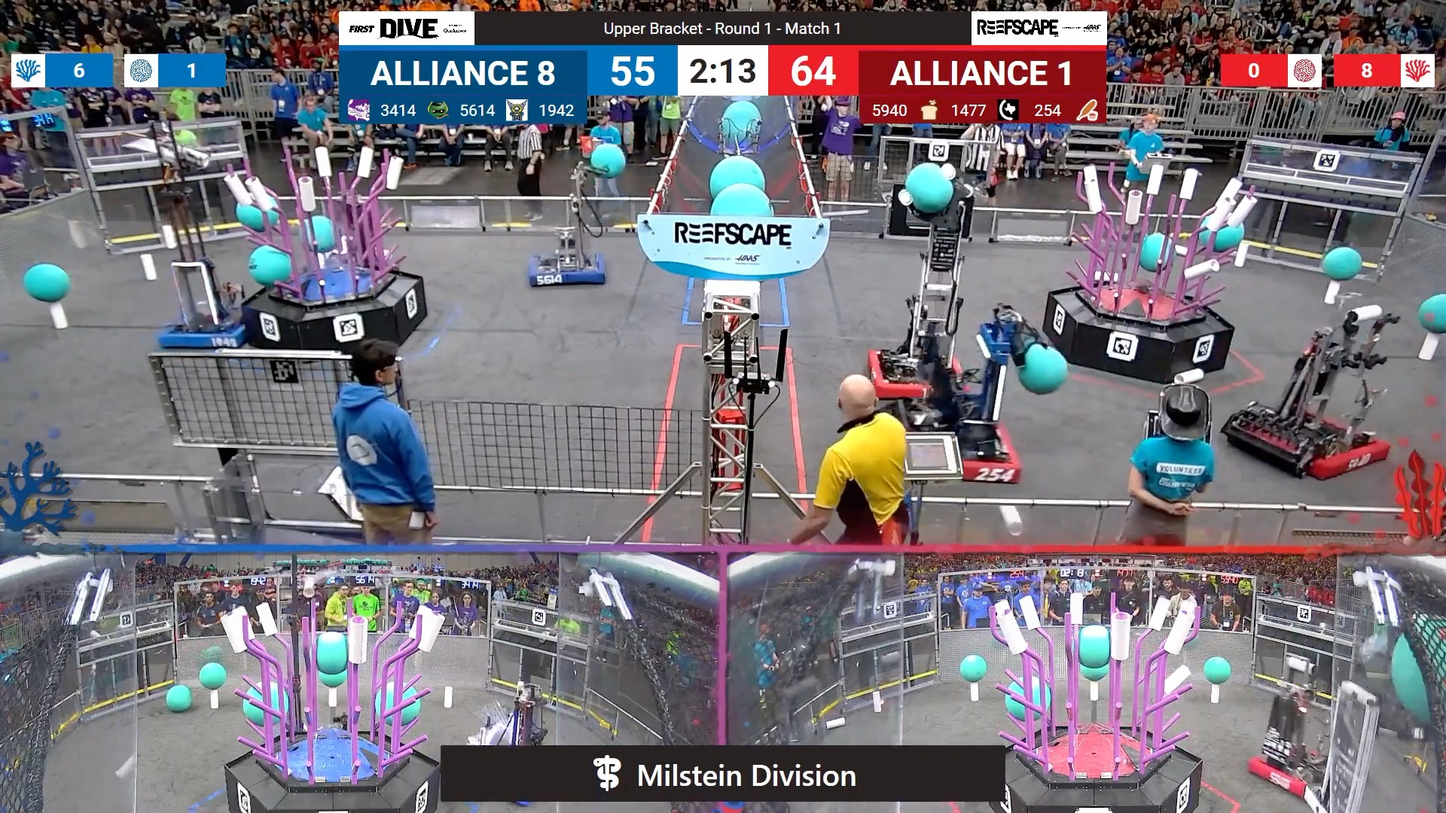bumpers: (883, 400, 1027, 490), (1230, 404, 1396, 482), (856, 345, 972, 400), (1238, 740, 1342, 798), (157, 300, 252, 352), (528, 251, 610, 289)
